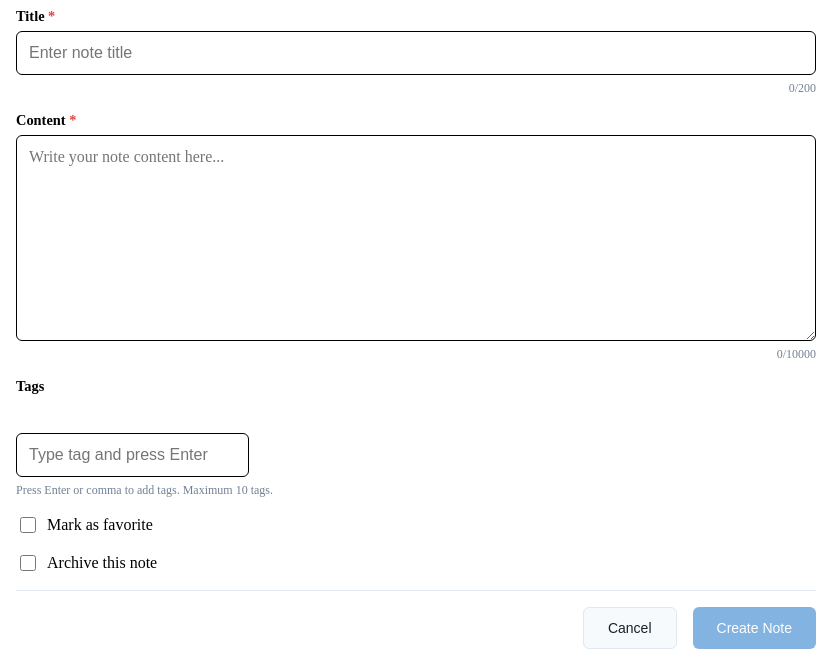
it: NotesForm › Tag Management › should normalize tag input to lowercase
Type "UPPERCASE" into the field with id "tags" at {"x": 132, "y": 455}, box [16,433,249,477]
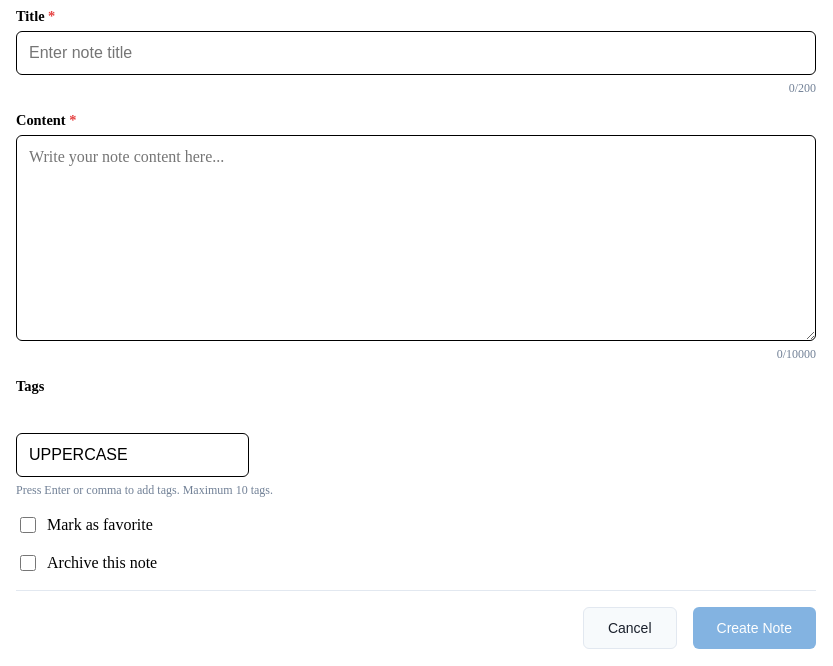
Press Enter in the field with id "tags", box [16,433,249,477]
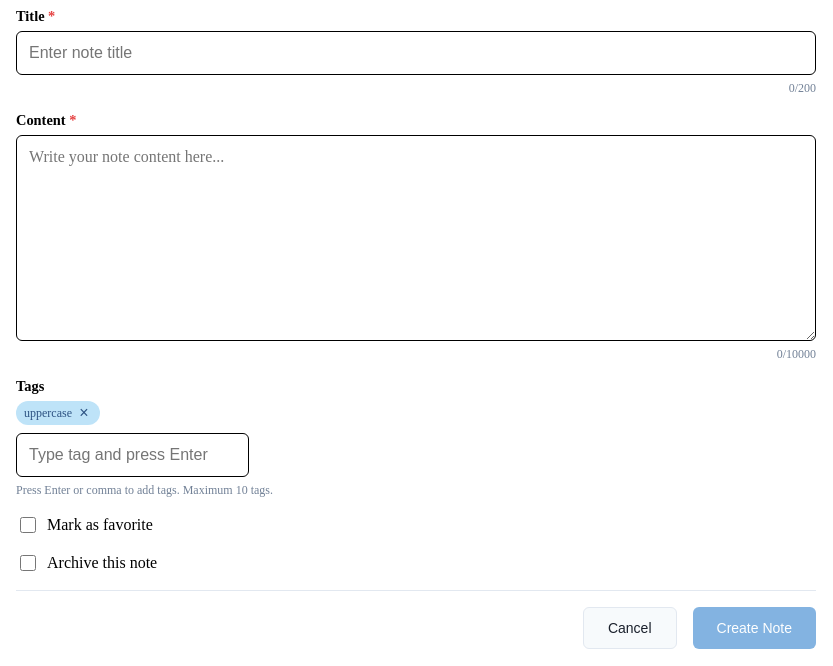
Check: the element with class "tag-chip" shows "uppercase", box [24,406,72,420]
